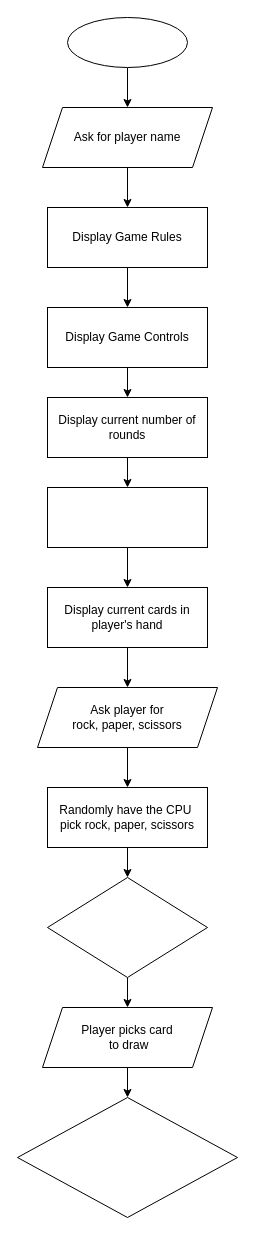
Some shapes in this 255 by 1235 pixel diagram are drawn without their labels. Each missing label, with the box of its shape:
Did the player win?: (46, 876, 208, 978)
Display top card on discard stack: (46, 486, 208, 548)
Is the card the same colour or type as the top card in the discard pile?: (16, 1096, 238, 1218)
START: (66, 16, 188, 68)
